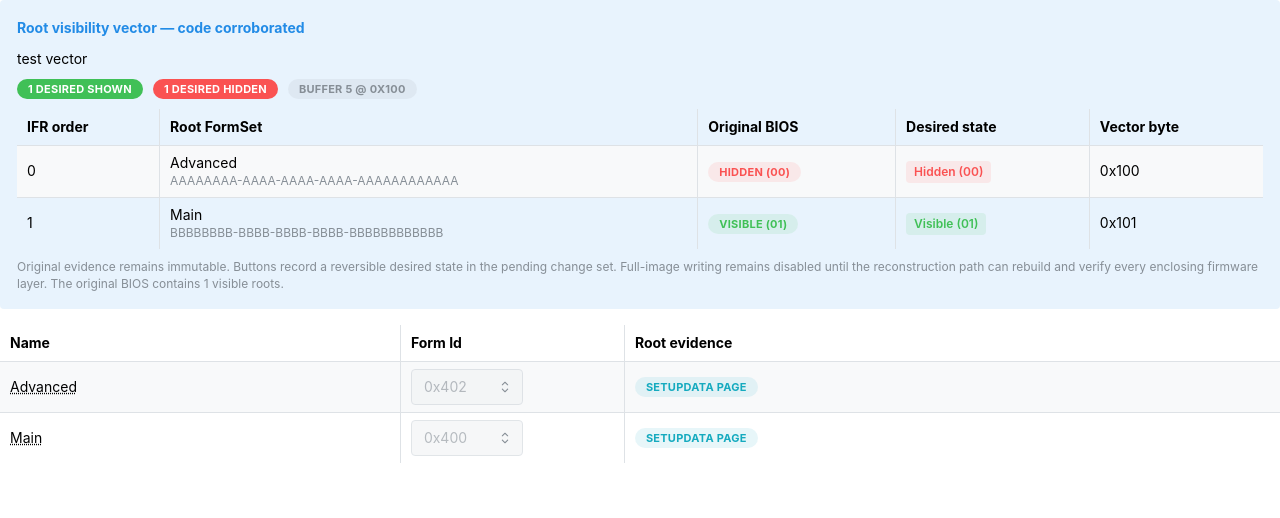
Test: root visibility controls › toggles a desired state while retaining the original BIOS state
What coordinates should you click on to do the following:
click the button with aria-label "Desired root state for Advanced: hidden"
I would click on:
 (949, 172)
Its box is [906,161,991,183].
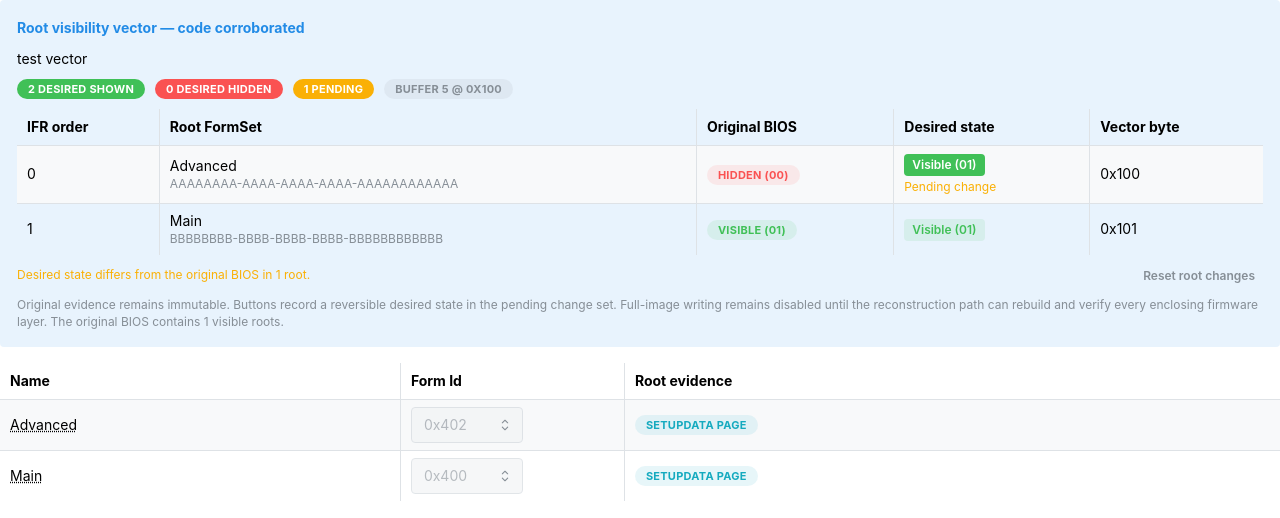
Check: the button with aria-label "Desired root state for Advanced: visible" is shown, box [904,154,985,176]
Check: the text "1 pending" is shown, box [304,80,363,98]
Check: the text "Pending change" is shown, box [904,179,996,194]
What coordinates should you click on to do the following:
click the button "Reset root changes"
I would click on:
 (1199, 276)
Its box is [1135,265,1263,287].
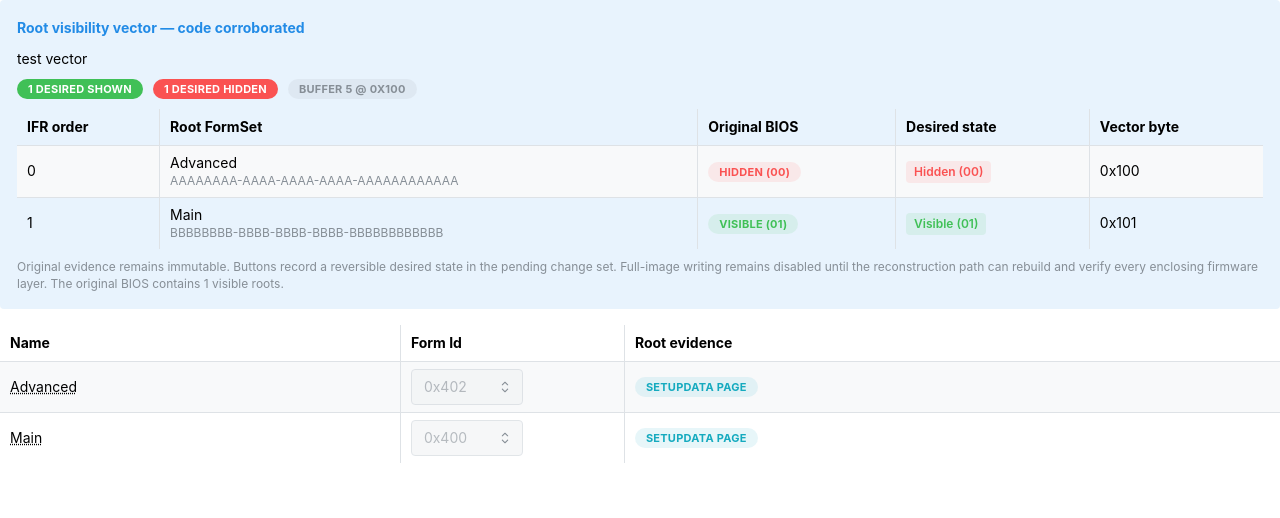
Check: the text "Pending change" is not shown
Check: the button with aria-label "Desired root state for Advanced: hidden" is shown, box [906,161,991,183]
